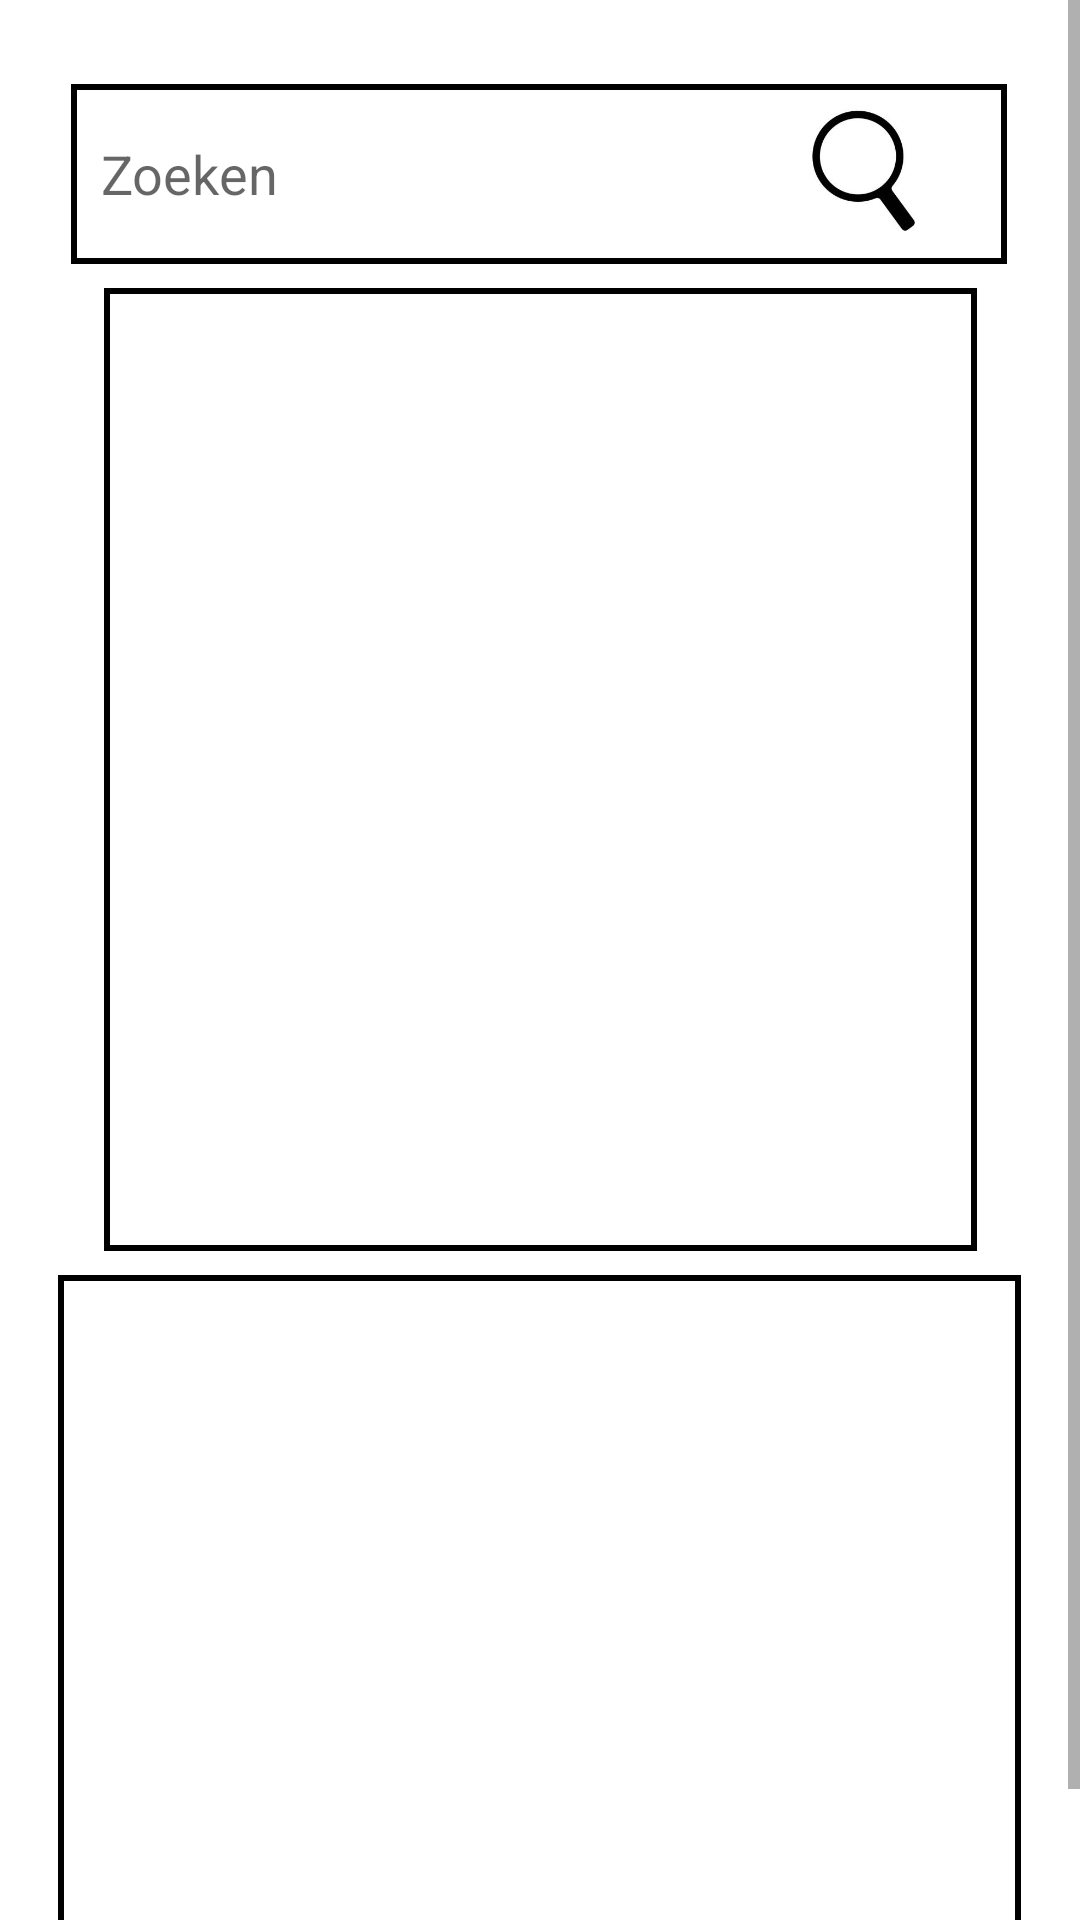

Screen size 1080w x 1920h. Icon name, then its box in pixels as (x1,y1,x2,y2):
search: (812,110,915,231)
